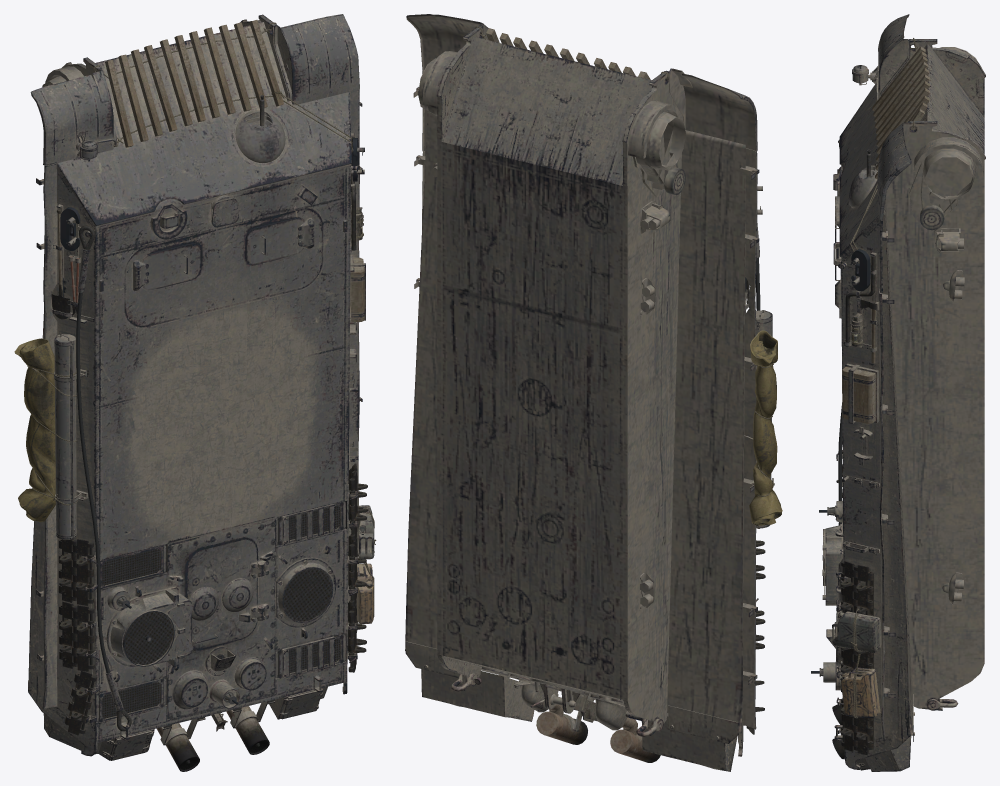
Rendered from Hull.glb.
The picture shows the model from 3 angles, left to right: view 1: azimuth 30°, elevation 25°; view 2: azimuth 150°, elevation 25°; view 3: azimuth 270°, elevation 25°; orthographic projection. The views are drawn at different scales.
Parts seen in each view (by area): view 1: set_0_group_0; view 2: set_0_group_0; view 3: set_0_group_0.
Part boxes in pixels (<box>): set_0_group_0: <box>14,14,376,771</box>; set_0_group_0: <box>405,14,782,771</box>; set_0_group_0: <box>811,14,985,771</box>.
Size of the model in its own units: 3.7 by 7.1 by 1.69.
1 material, 1 textured.
